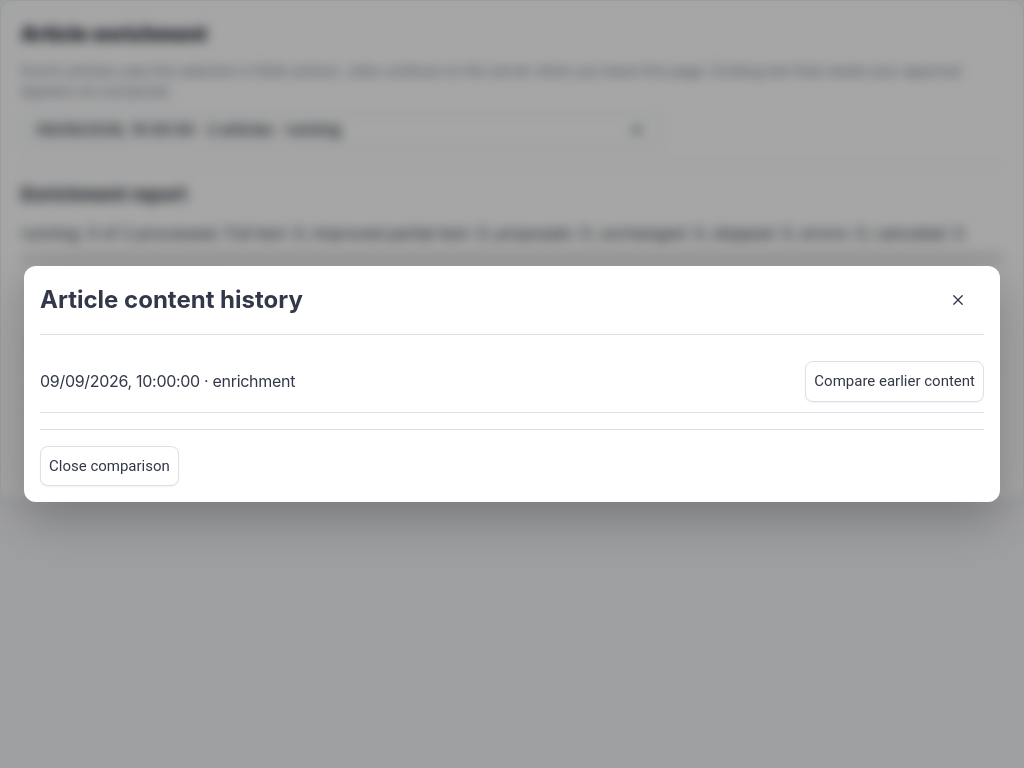
Scenario: persistent article enrichment › loads fresh history and restores the content before a change using the current server version
Expected: the element with class "raw_news_bulk__results" is shown, [21,322,1003,481]
Click the button "Compare earlier content".
click(895, 381)  # box [805,361,984,402]
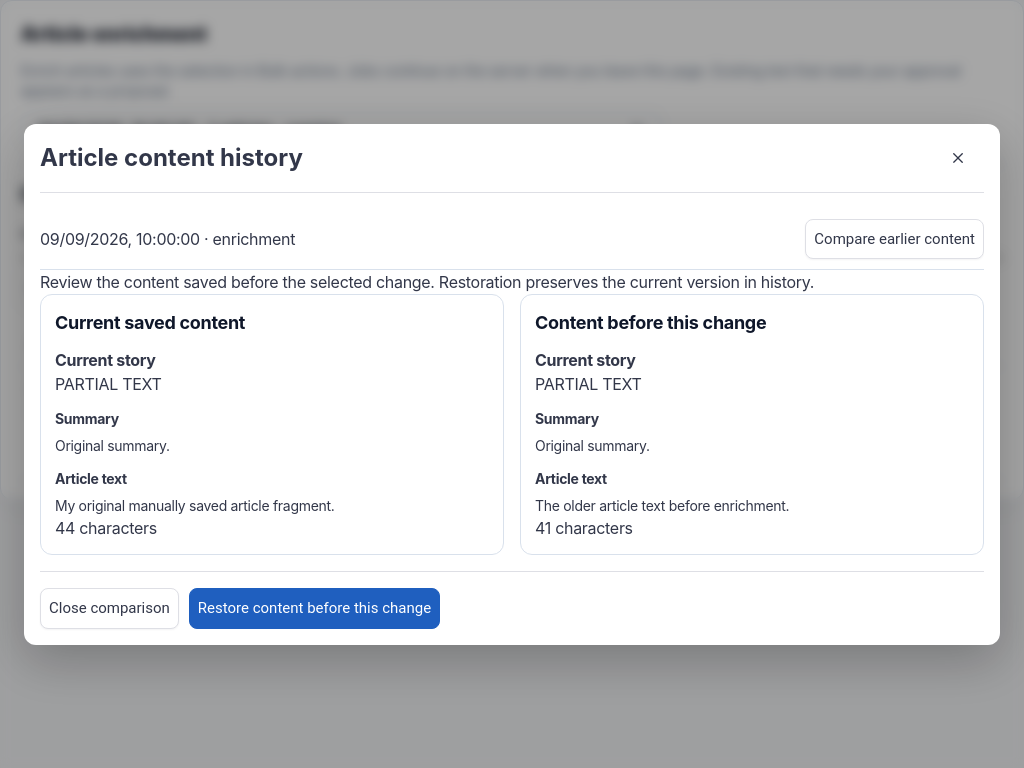
Now the text "The older article text before enrichment." is shown, box [535,497,789,514]
Now the text "My original manually saved article fragment." is shown, box [55,497,334,514]
Now the button "Restore content before this change" is shown
Click the button "Restore content before this change".
click(314, 608)  # box [189,588,440,628]
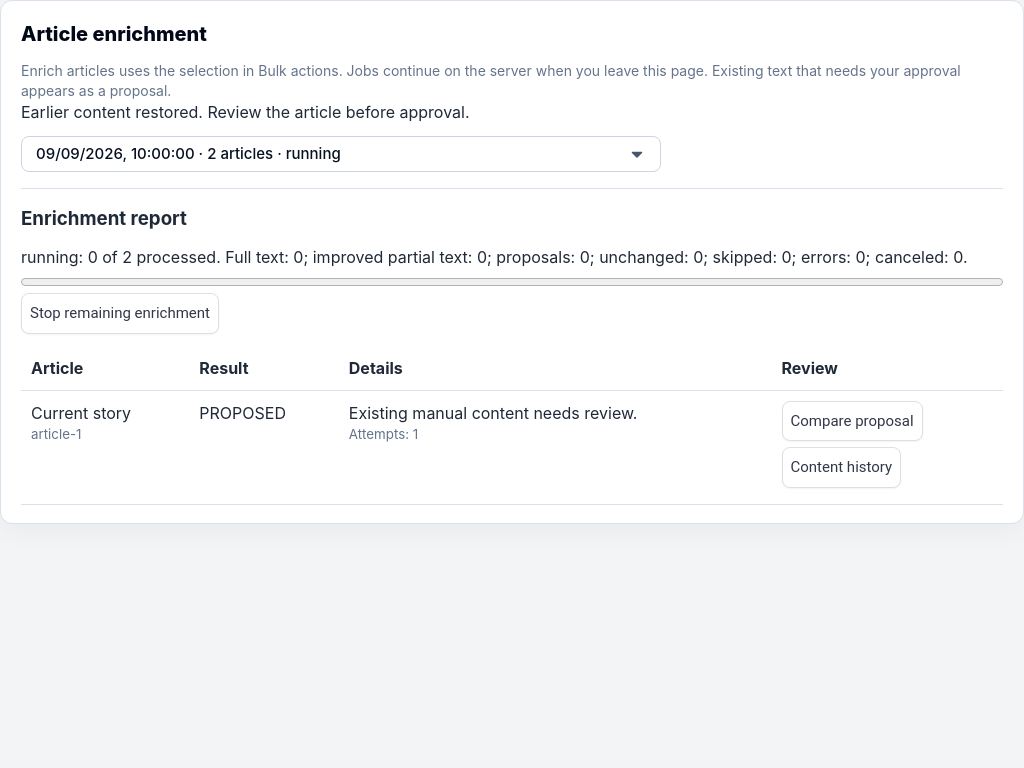
Now the text "Earlier content restored" is shown, box [21,102,470,122]
